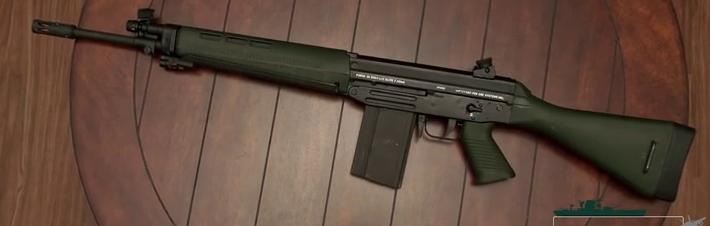gun: (1, 1, 710, 226)
